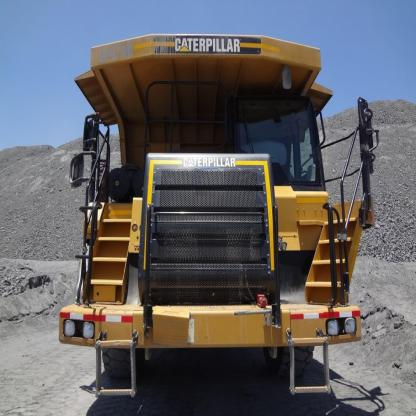dump_truck: (51, 27, 376, 391)
